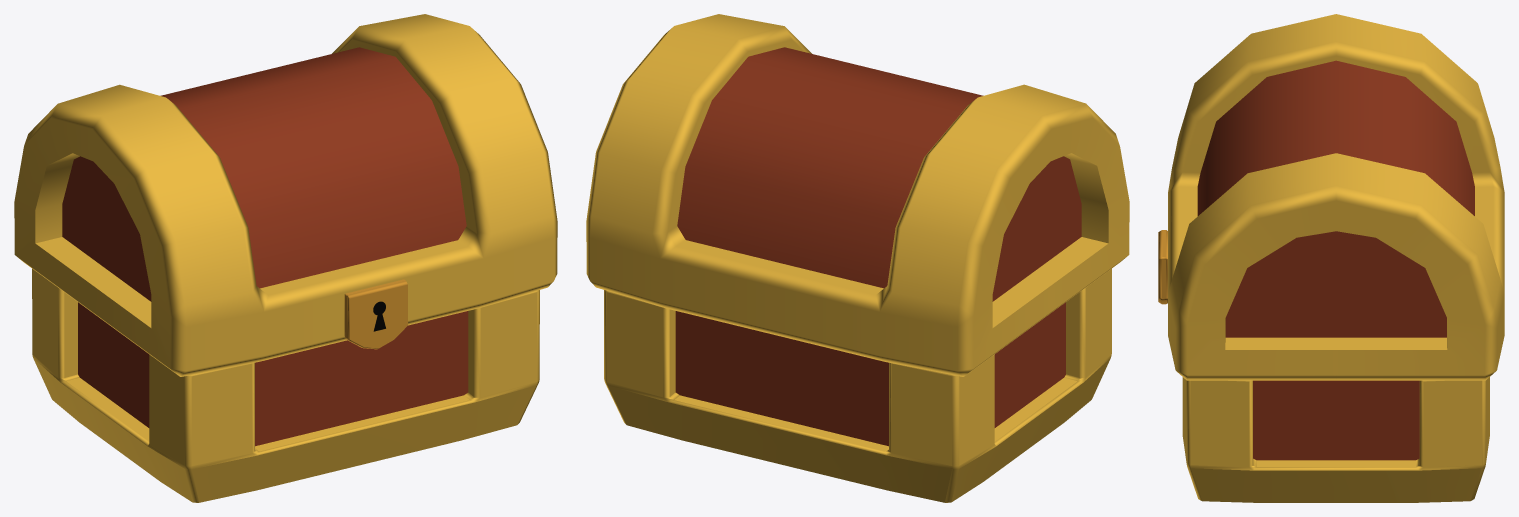
Rendered from chestnotex.fbx.
3 views of the same model, side by side, from view 1: azimuth 30°, elevation 25°; view 2: azimuth 150°, elevation 25°; view 3: azimuth 270°, elevation 25° (orthographic). The views are drawn at different scales.
Parts seen in each view (by area): view 1: chestnotex; view 2: chestnotex; view 3: chestnotex.
Boxes of the visible parts, x1,y1,x2,y2 form: chestnotex: [14, 14, 557, 502]; chestnotex: [586, 14, 1129, 502]; chestnotex: [1158, 14, 1504, 502].
Size of the model in its own units: 1.04 by 0.8926 by 0.8438.
